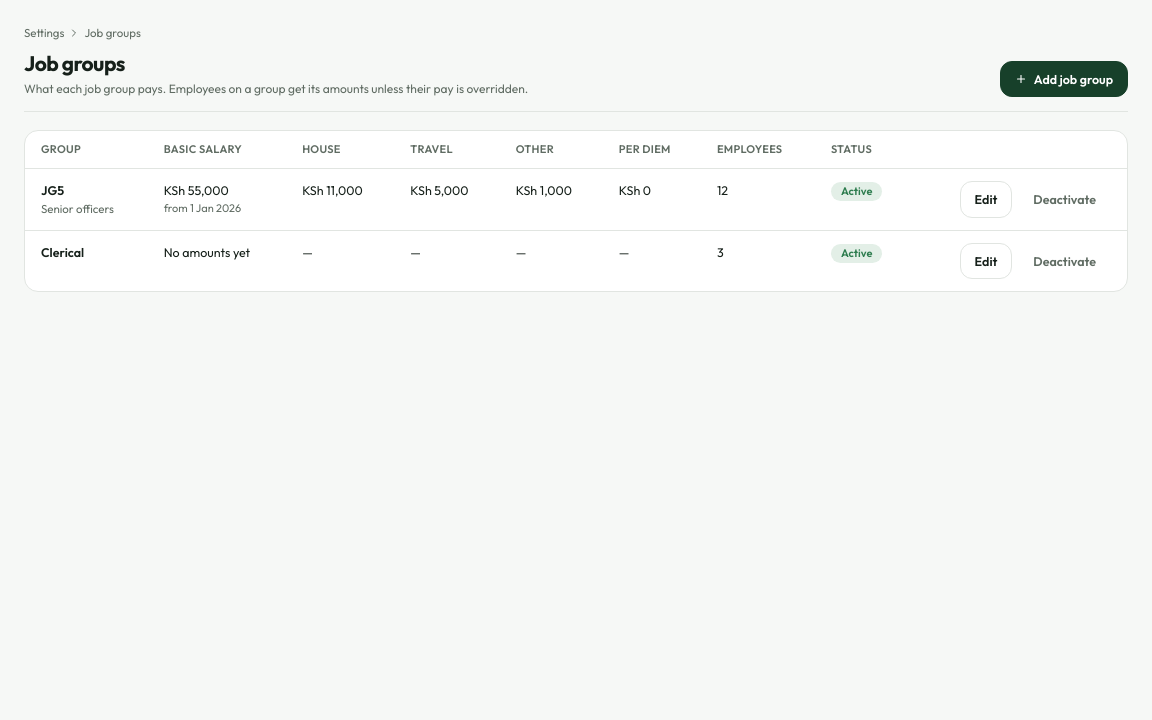
Test: Job groups page › a band needs its lowest and highest basic salary
Click the button with aria-label "Edit Clerical". click: (986, 261)
box: [960,242,1012,279]
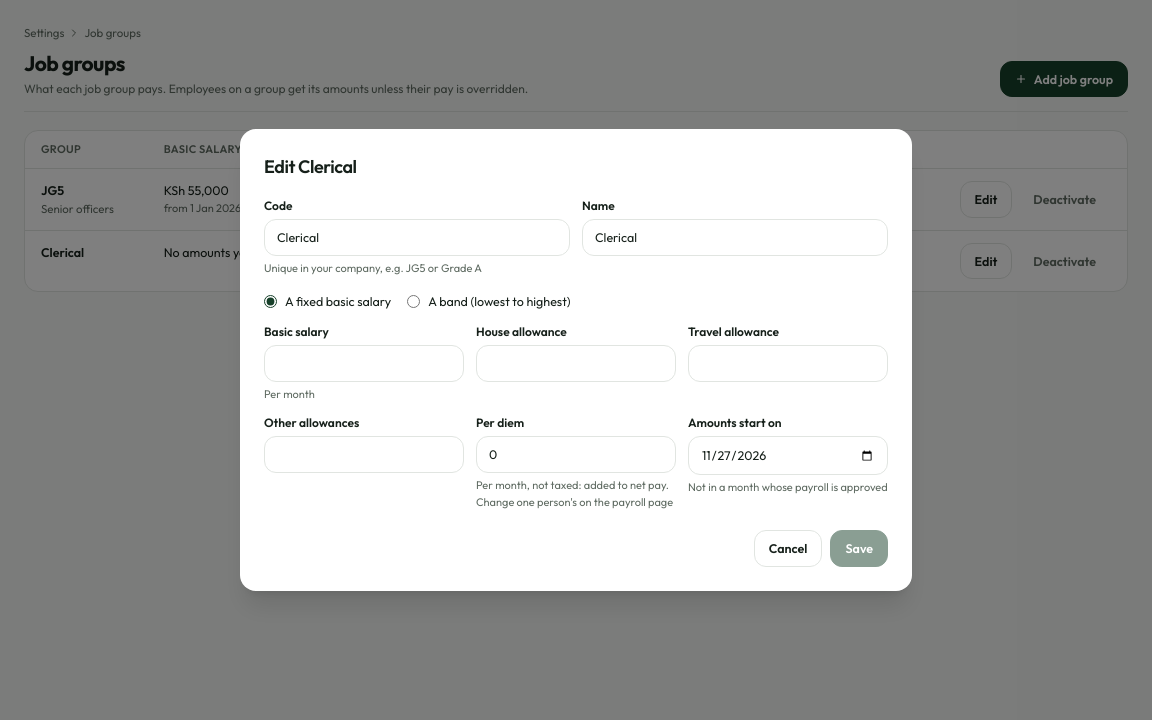
Click the radio button labelled "A band (lowest to highest)". click: (414, 302)
box: [407,295,420,308]
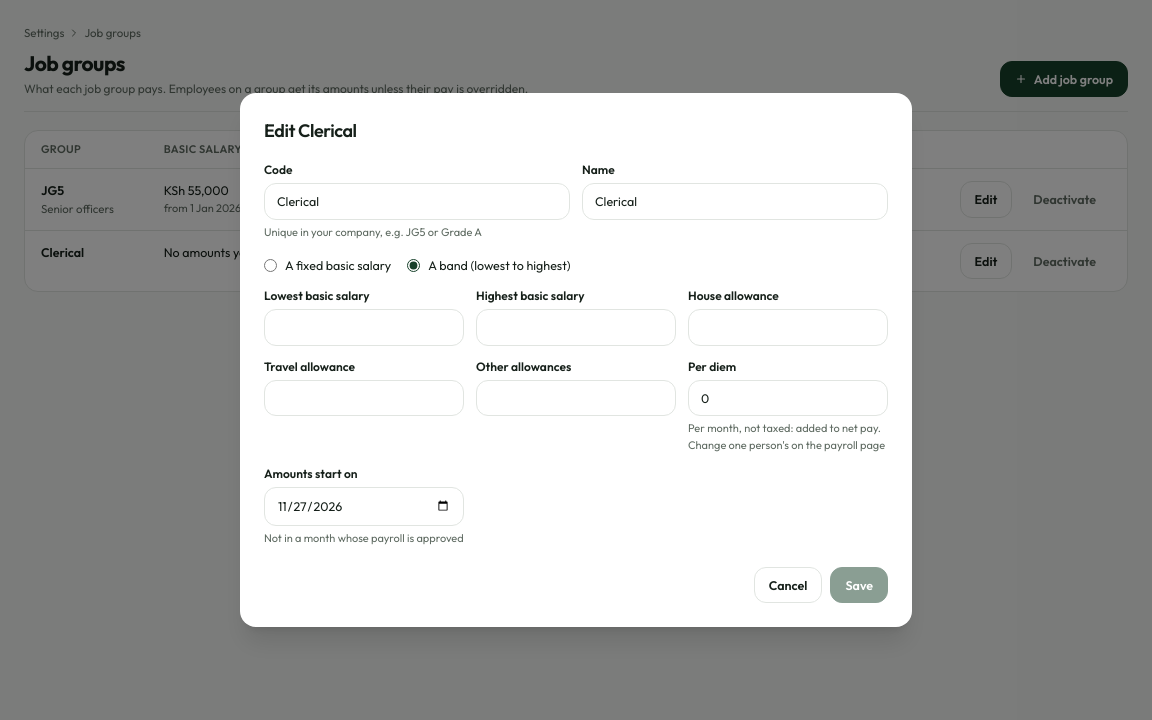
Type "40000" into the number field labelled "Lowest basic salary". click: (364, 327)
box: [264,309,464,346]
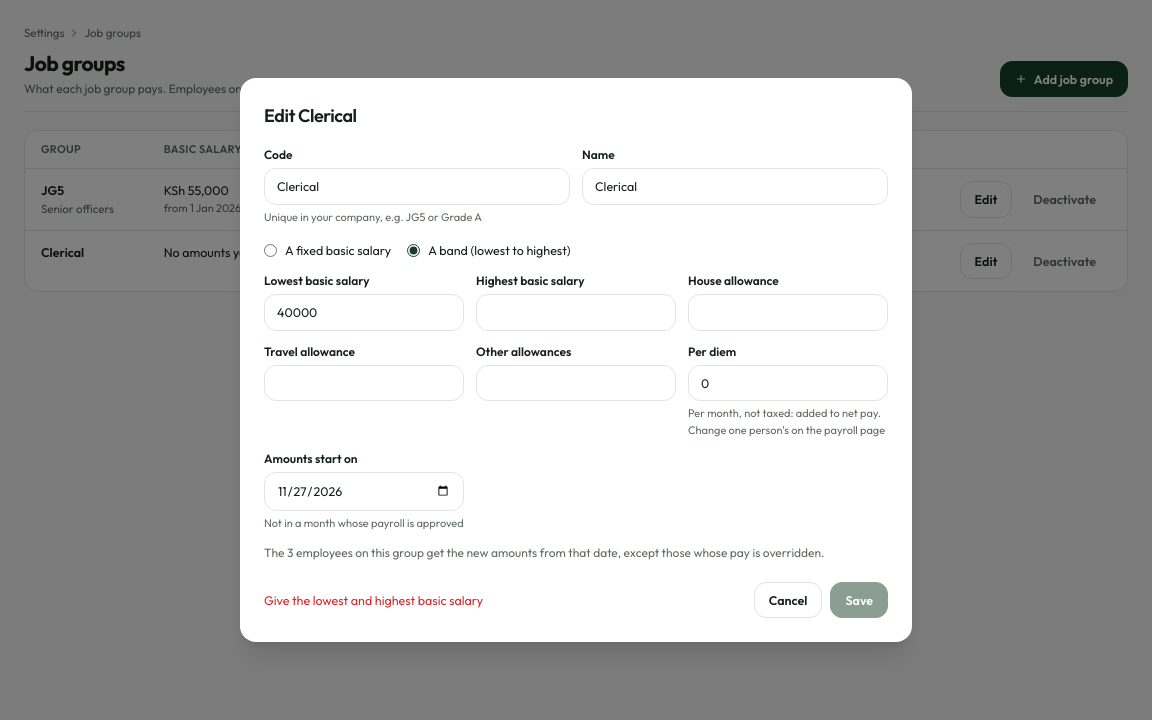
Type "30000" into the number field labelled "Highest basic salary". click: (576, 312)
box: [476,294,676,331]
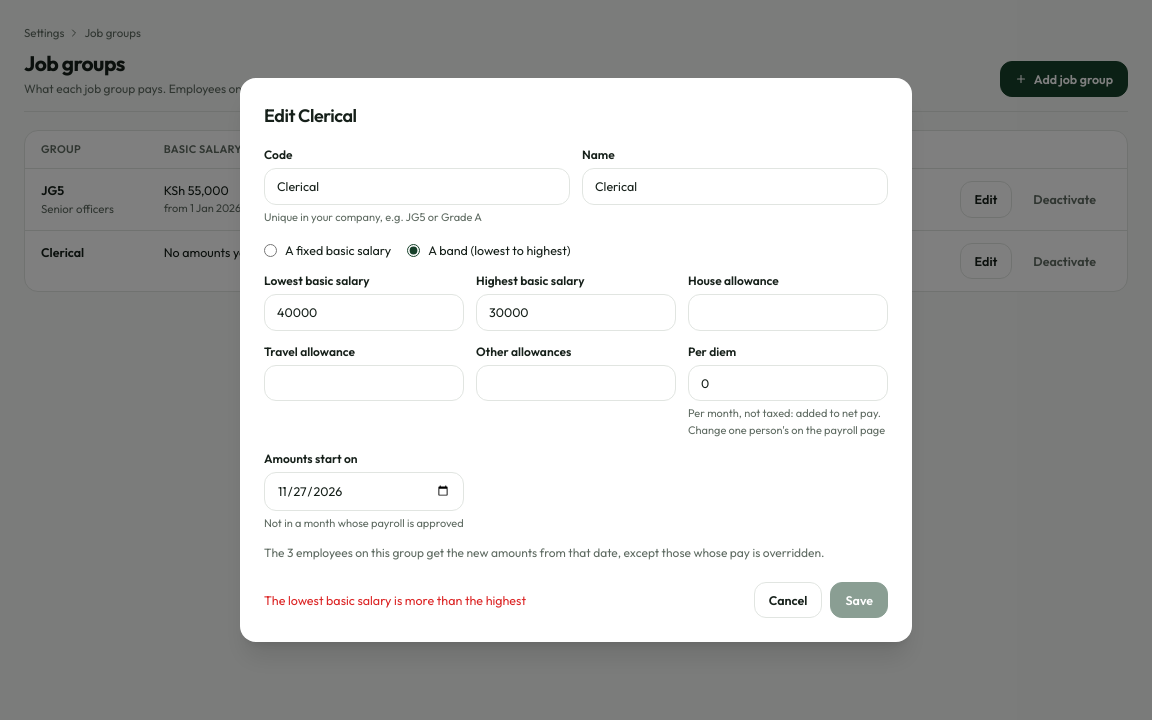
Check: the button "Save" is disabled, box [830,582,888,618]
Check: the text "The lowest basic salary is more than the highest" is shown, box [264,592,526,608]
